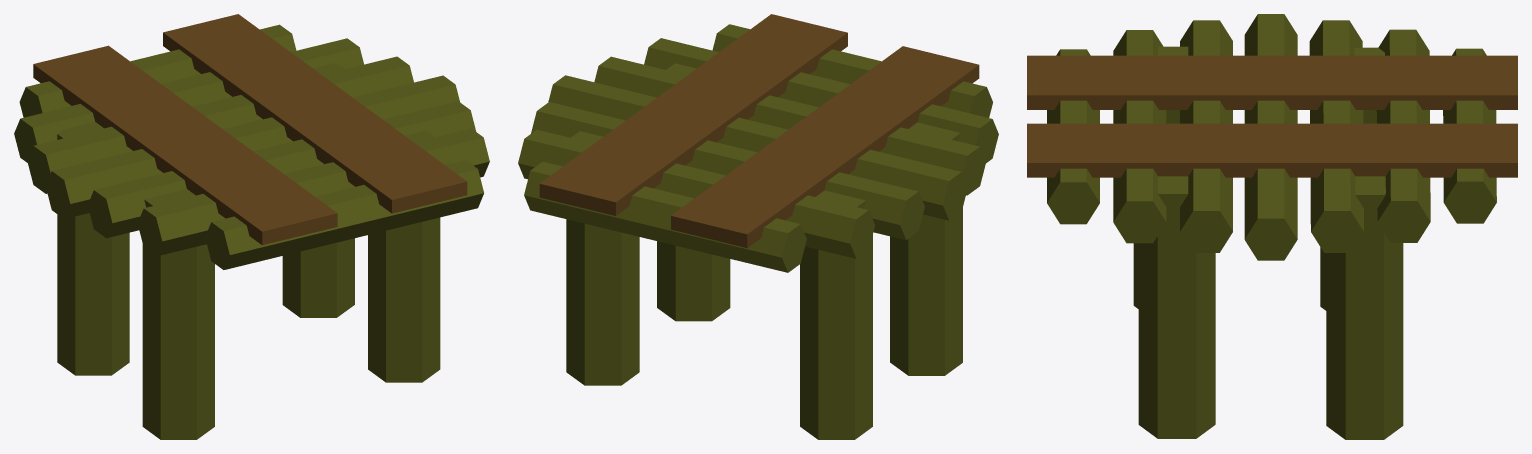
File: outdoorStool2.fbx
The picture shows the model from 3 angles, left to right: view 1: azimuth 30°, elevation 25°; view 2: azimuth 150°, elevation 25°; view 3: azimuth 270°, elevation 25°; orthographic projection. The views are drawn at different scales.
Parts seen in each view (by area): view 1: Cylinder.031; view 2: Cylinder.031; view 3: Cylinder.031.
Boxes of the visible parts, box(x1,y1,x2,y2) form: Cylinder.031: box(14, 14, 489, 439); Cylinder.031: box(518, 14, 998, 439); Cylinder.031: box(1027, 14, 1517, 439).
Bounding box in the file's own units: 200 × 197 × 116.
